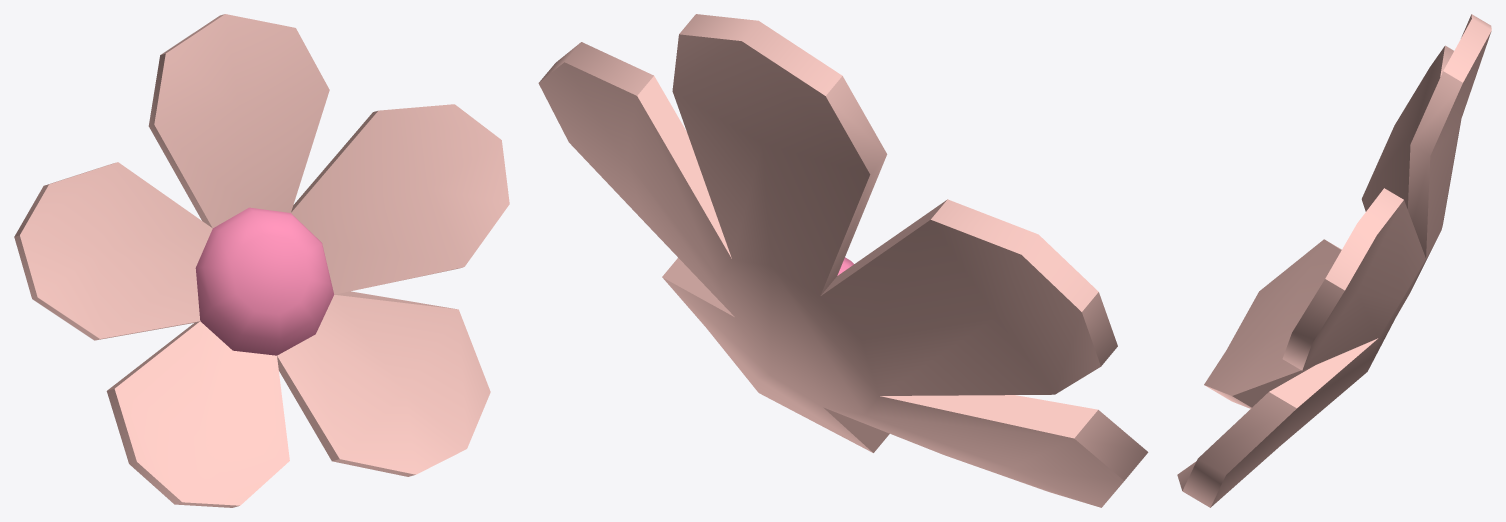
File: Flower3.fbx
3 views of the same model, side by side, from view 1: azimuth 30°, elevation 25°; view 2: azimuth 150°, elevation 25°; view 3: azimuth 270°, elevation 25° (orthographic). The views are drawn at different scales.
Parts seen in each view (by area): view 1: Flower3; view 2: Flower3; view 3: Flower3.
Boxes of the visible parts, <box> form: Flower3: <box>14,14,509,507</box>; Flower3: <box>538,14,1148,507</box>; Flower3: <box>1177,14,1491,507</box>.
Bounding box in the file's own units: 33.31 × 28.4 × 18.49.
Materials: 1 (1 with a texture image).
